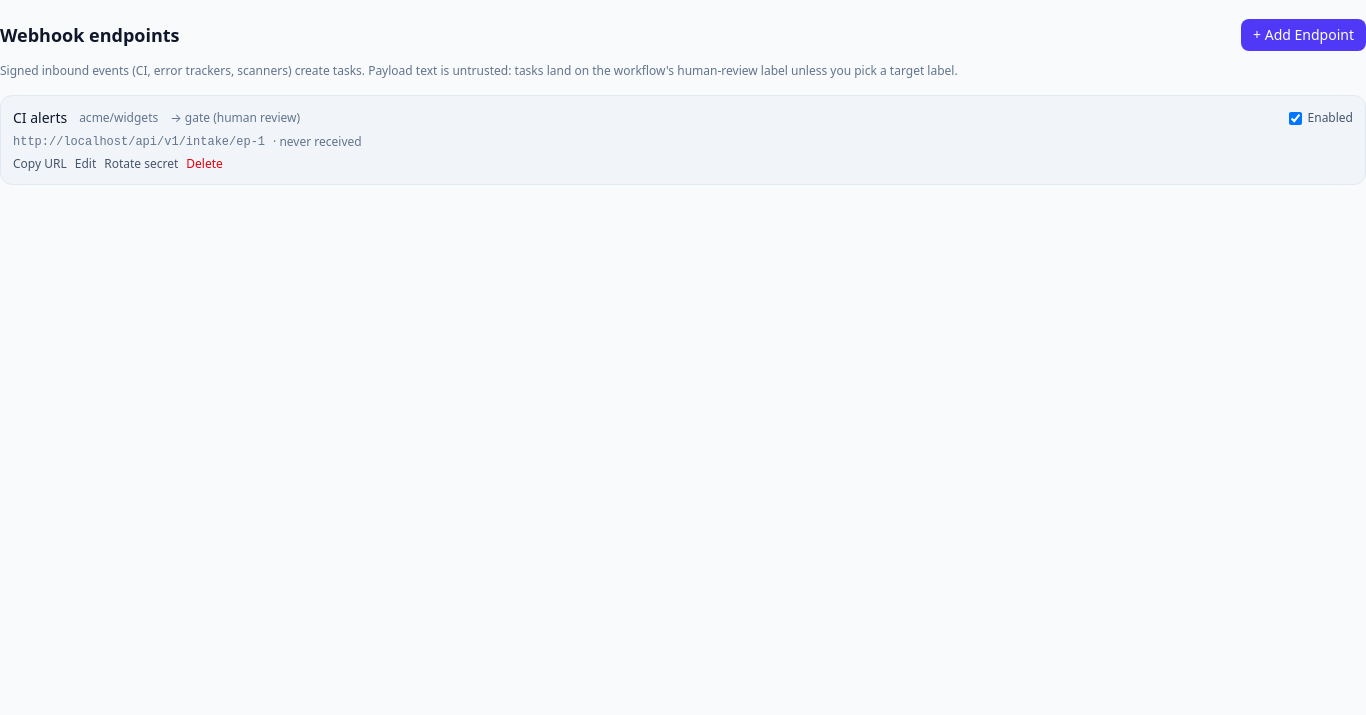
IntakeEndpointsSection › shows the secret once after create
Check: the text "CI alerts" is shown, box [13,108,67,128]
Click the button "+ Add Endpoint" at (1304, 35), box [1241,19,1365,51]
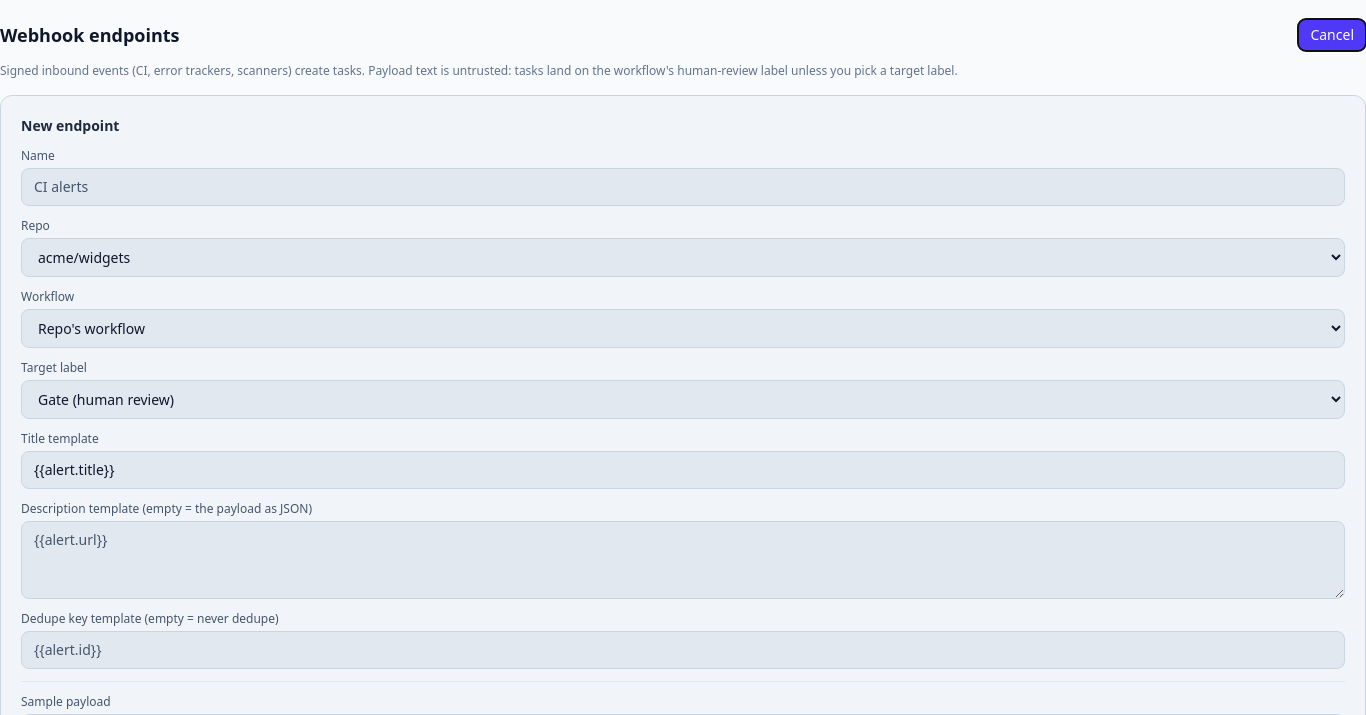
Type "New" into the field with placeholder "CI alerts" at (683, 187), box [21,168,1345,206]
(page scrolled)
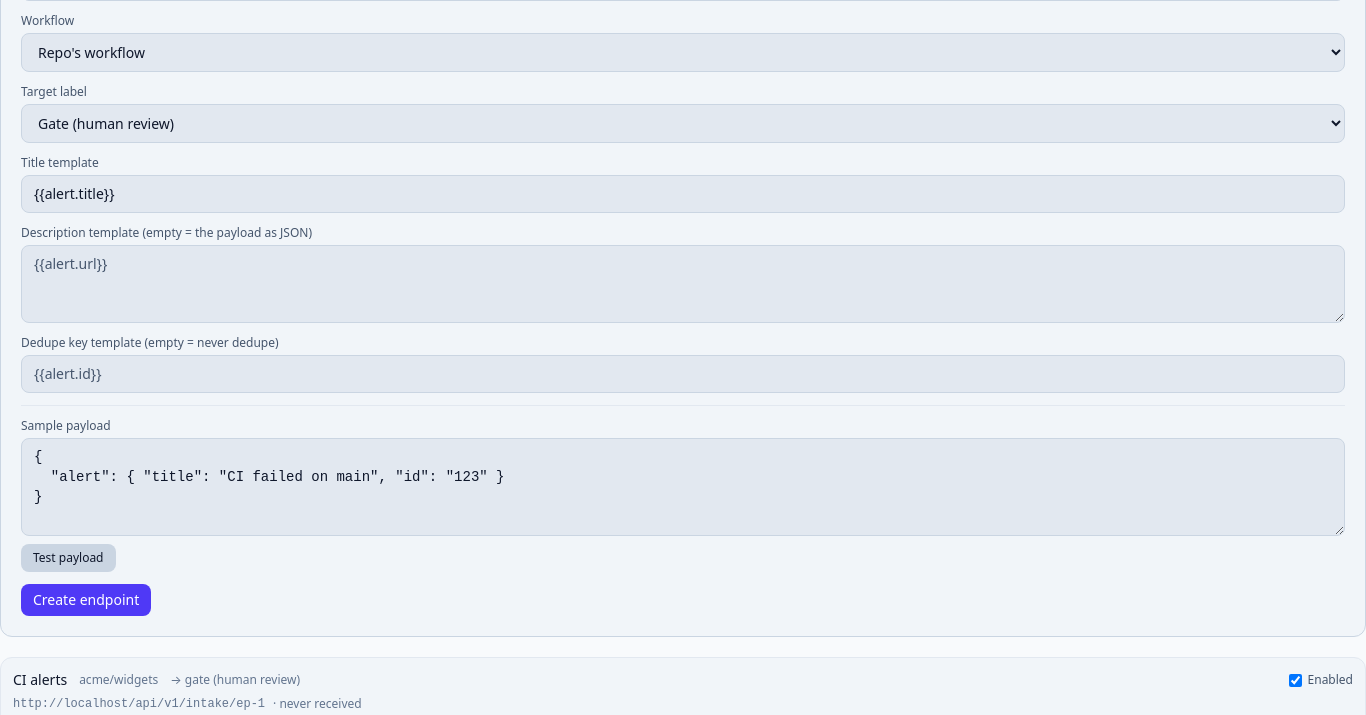
Click the button "Create endpoint" at (86, 600), box [21,584,151,616]
(page scrolled)
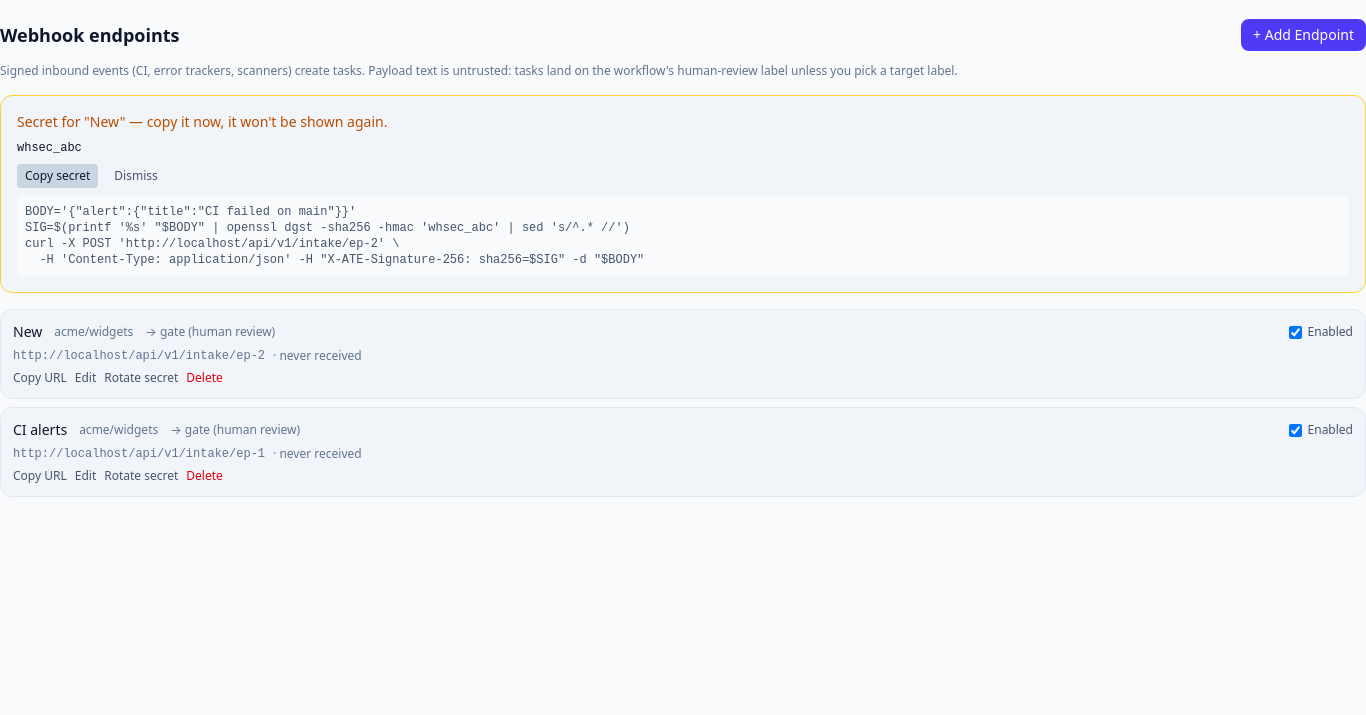
Check: the text "whsec_abc" is shown, box [17,141,82,155]
Check: the text "Secret for \"New\" — copy it now, it won't be shown again." is shown, box [17,112,387,131]
